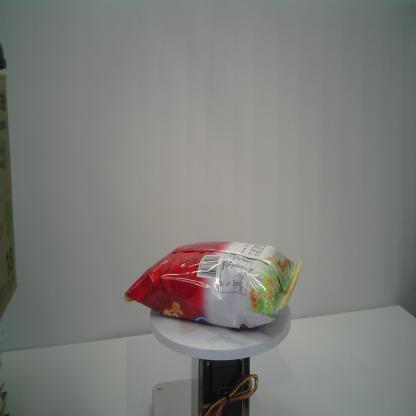Puffed Food: (124, 238, 303, 329)
